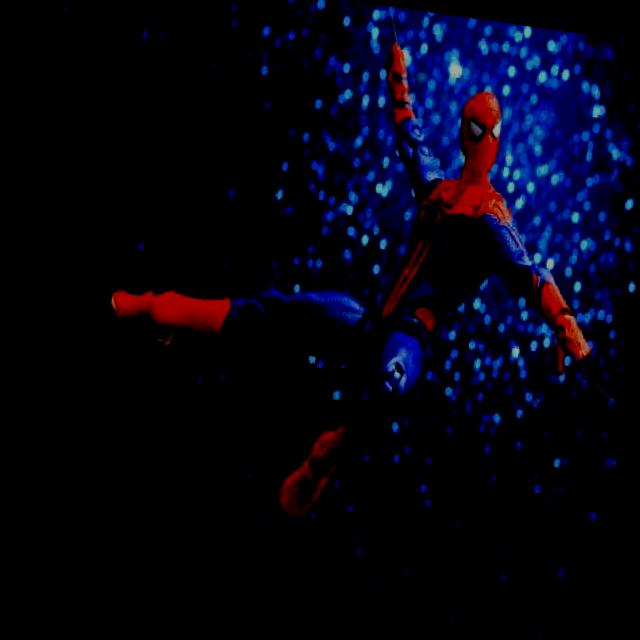Person: (82, 1, 628, 560)
